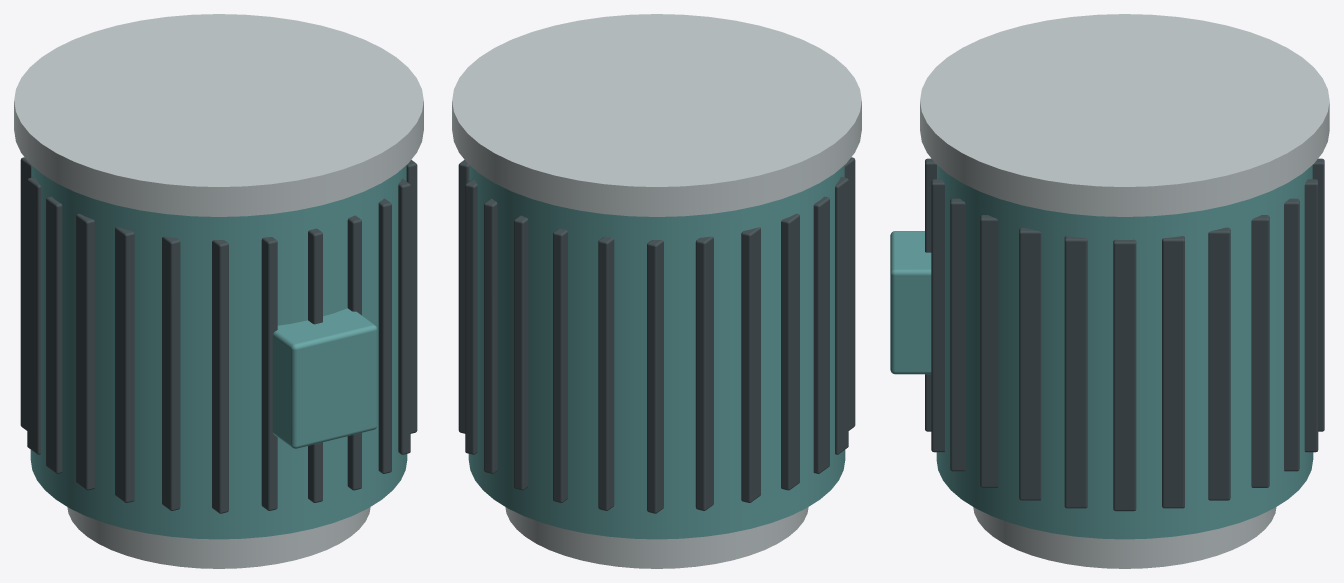
Rendered from hydroelectric-dam-infiltration-generator-housing-4ccb0b31__29346.glb.
3 renders of one model, left to right at view 1: azimuth 30°, elevation 25°; view 2: azimuth 150°, elevation 25°; view 3: azimuth 270°, elevation 25°, orthographic.
Visible parts, largest first — view 1: generator-housing; view 2: generator-housing; view 3: generator-housing.
Part boxes in pixels (bbox=[...]): generator-housing: bbox=[14, 14, 423, 568]; generator-housing: bbox=[452, 14, 861, 568]; generator-housing: bbox=[890, 14, 1329, 568].
Size of the model in its own units: 1.24 by 1.35 by 1.33.
